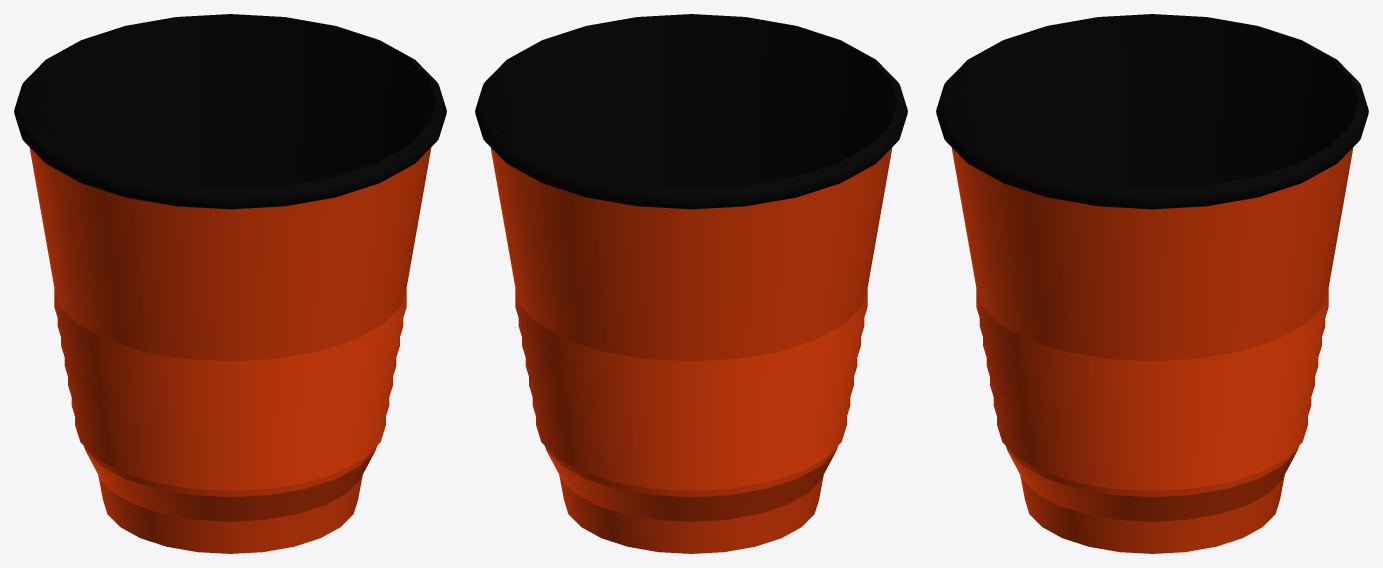
The model's file is cup_06_origin_gt_7.dae.
3 views of the same model, side by side, from view 1: azimuth 30°, elevation 25°; view 2: azimuth 150°, elevation 25°; view 3: azimuth 270°, elevation 25° (orthographic).
Visible parts, largest first — view 1: group_0 (×9); view 2: group_0 (×9); view 3: group_0 (×9).
Part boxes in pixels (x1,y1,x2,y2): group_0 (×9): (14, 14, 446, 553); group_0 (×9): (475, 14, 907, 553); group_0 (×9): (936, 14, 1368, 553).
Size of the model in its own units: 3.69 by 3.69 by 3.75.
